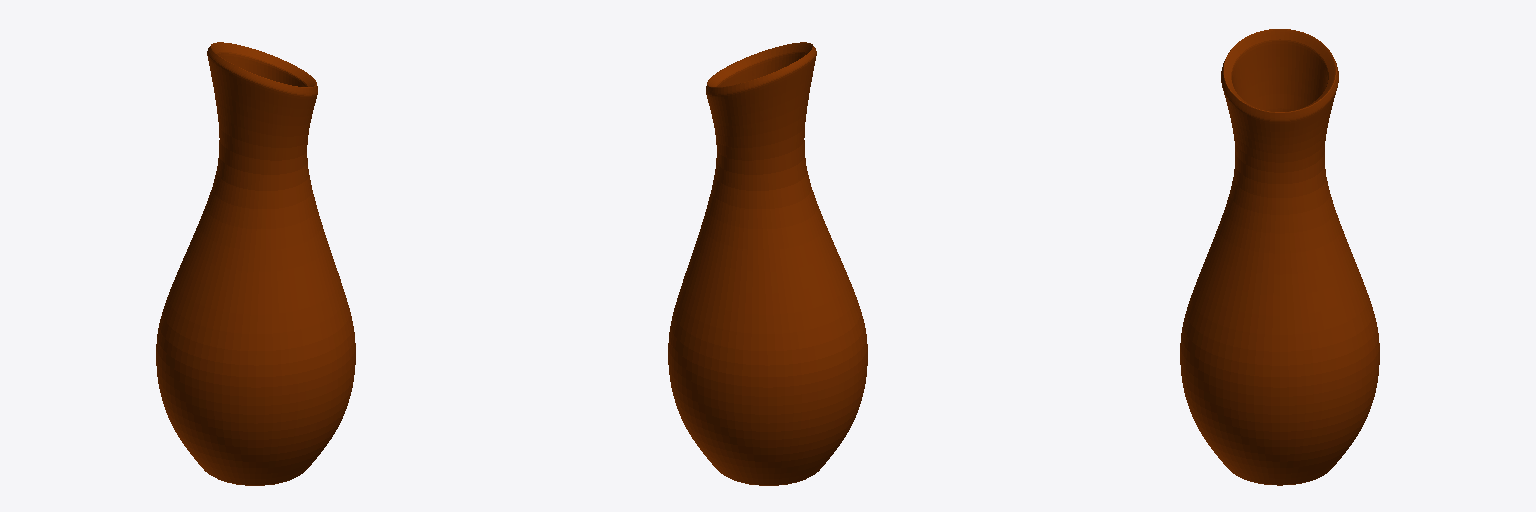
The model's file is ModernVase.obj.
The picture shows the model from 3 angles: view 1: azimuth 30°, elevation 25°; view 2: azimuth 150°, elevation 25°; view 3: azimuth 270°, elevation 25°; orthographic projection.
Parts seen in each view (by area): view 1: uploads_files_62426_3; view 2: uploads_files_62426_3; view 3: uploads_files_62426_3.
Part boxes in pixels (x1,y1,x2,y2): uploads_files_62426_3: (156,42,355,485); uploads_files_62426_3: (668,42,867,485); uploads_files_62426_3: (1180,29,1379,485).
Size of the model in its own units: 153 by 353 by 153.